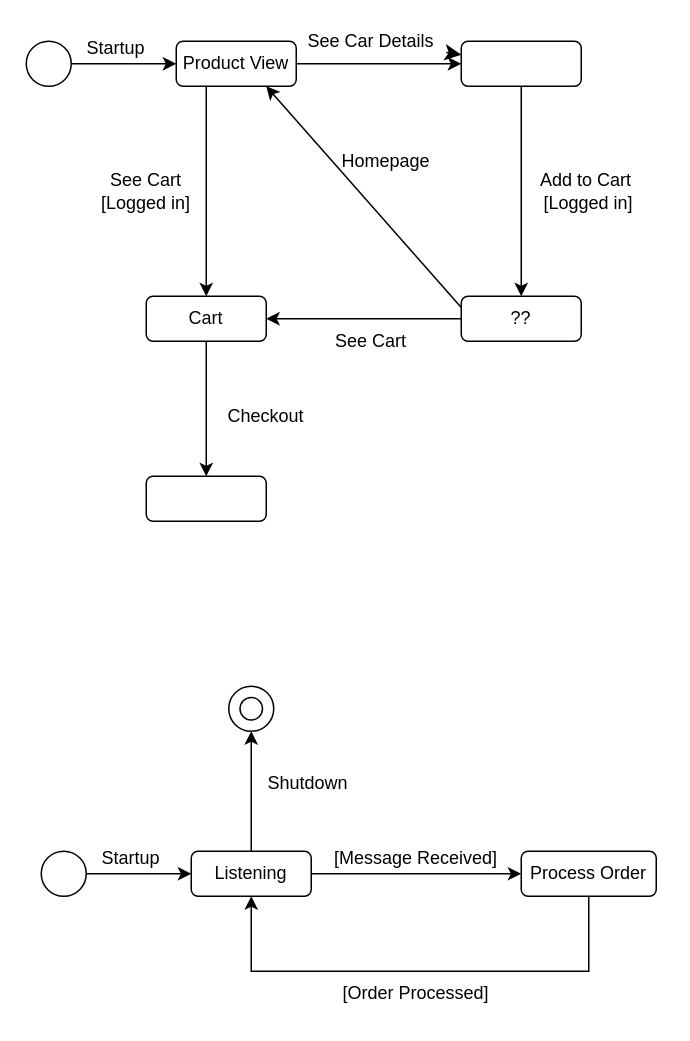
Image size: 690x1041. Some labels were removed from this diagram. Each missing label, with the box of its shape:
Car Details: (460, 40, 581, 86)
Confirmation: (145, 475, 266, 521)
